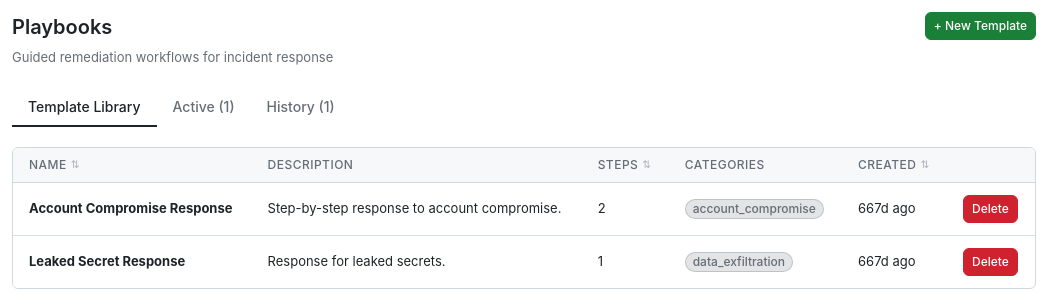
it: PlaybooksPage › shows active executions in data table
What coordinates should you click on to do the following:
click the tab "Active (1)"
I would click on:
 (204, 107)
Its box is [156, 88, 251, 126].
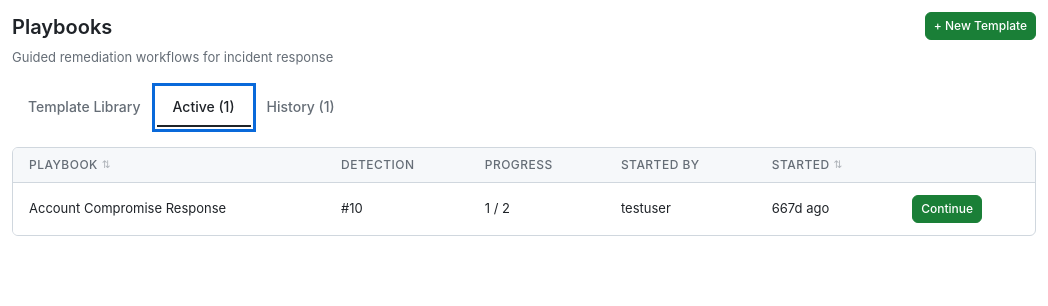
Now the text "#10" is shown, box [325, 182, 469, 234]
Now the button "Continue" is shown, box [912, 194, 982, 222]
